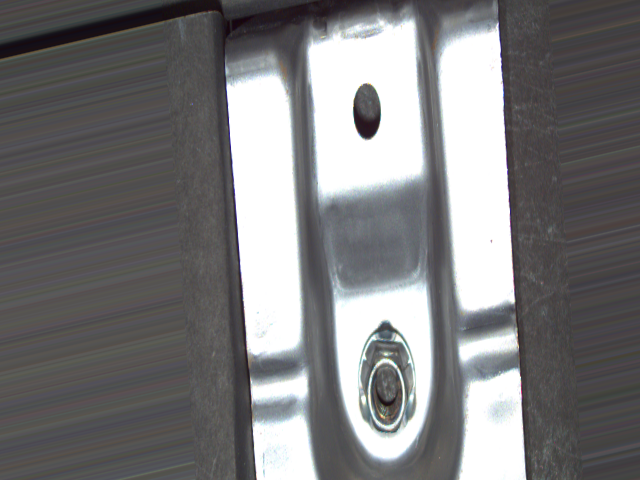good: (350, 318, 424, 440)
